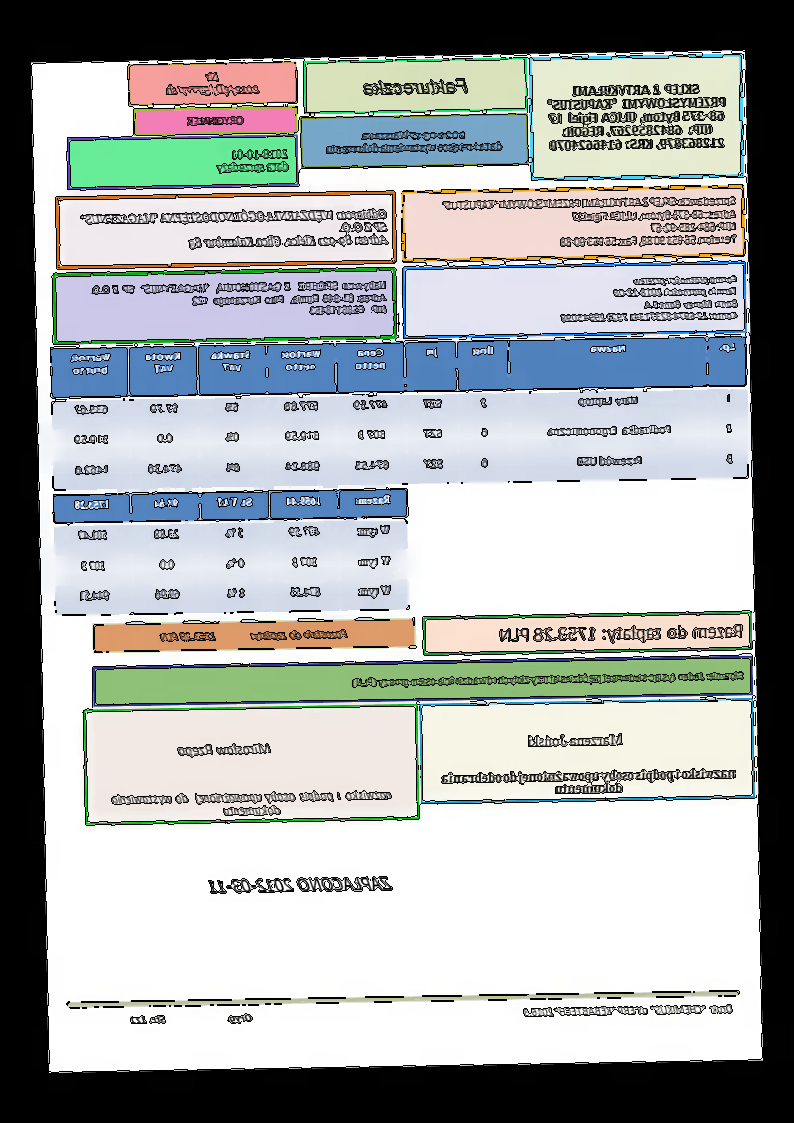Table: (48, 333, 750, 492), (51, 485, 410, 615)
TextBox: (442, 191, 740, 252), (78, 204, 390, 254), (545, 78, 730, 154), (89, 277, 388, 322), (439, 765, 739, 799), (109, 785, 395, 820), (349, 667, 748, 692), (558, 272, 740, 325), (498, 619, 747, 647), (324, 125, 505, 157), (204, 870, 395, 897), (519, 1000, 735, 1020), (157, 625, 352, 645), (164, 68, 262, 100), (362, 74, 472, 101), (526, 728, 627, 751), (128, 1010, 256, 1028), (217, 144, 291, 175), (175, 738, 274, 759), (188, 112, 246, 128)
